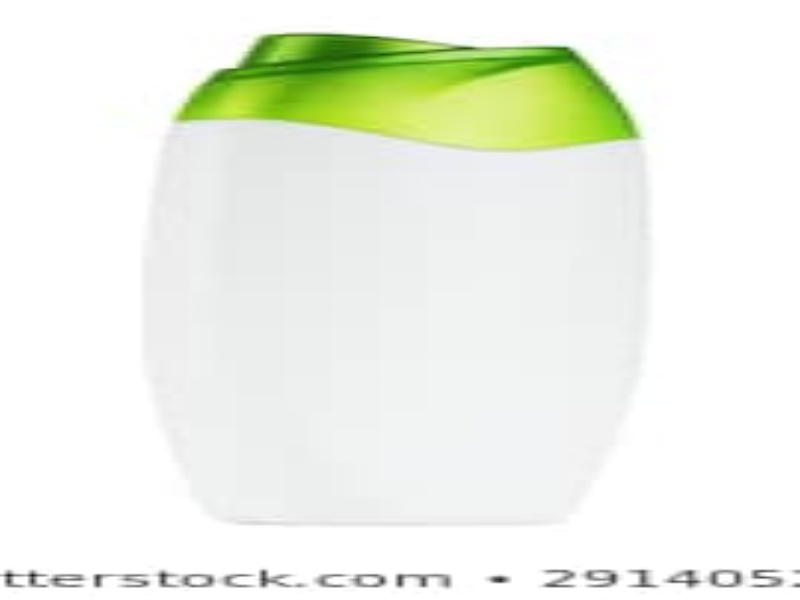shampoo-bottle: (140, 32, 656, 525)
